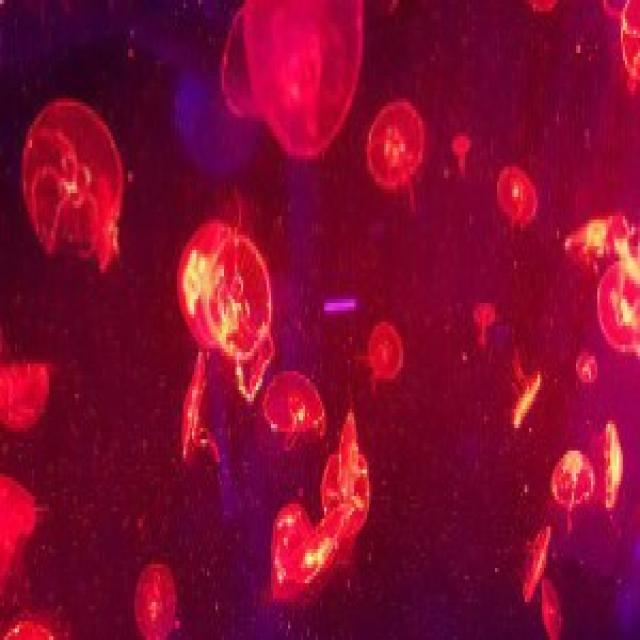Jellyfish: (21, 85, 139, 291), (222, 0, 356, 164), (207, 225, 287, 392), (172, 223, 220, 448), (362, 88, 434, 197), (315, 401, 372, 538), (548, 399, 606, 525), (265, 506, 321, 613), (264, 362, 328, 440), (128, 560, 186, 640), (598, 258, 640, 350), (496, 164, 542, 246), (362, 318, 410, 385), (450, 127, 472, 189)
